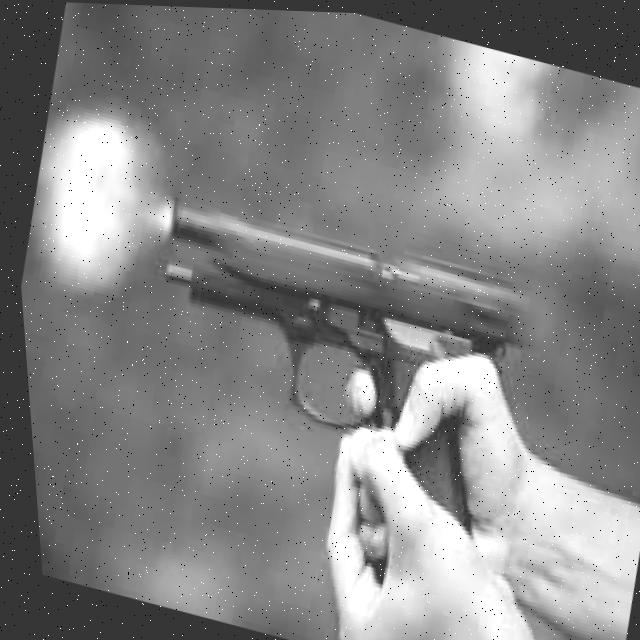pistol: (124, 178, 549, 479)
